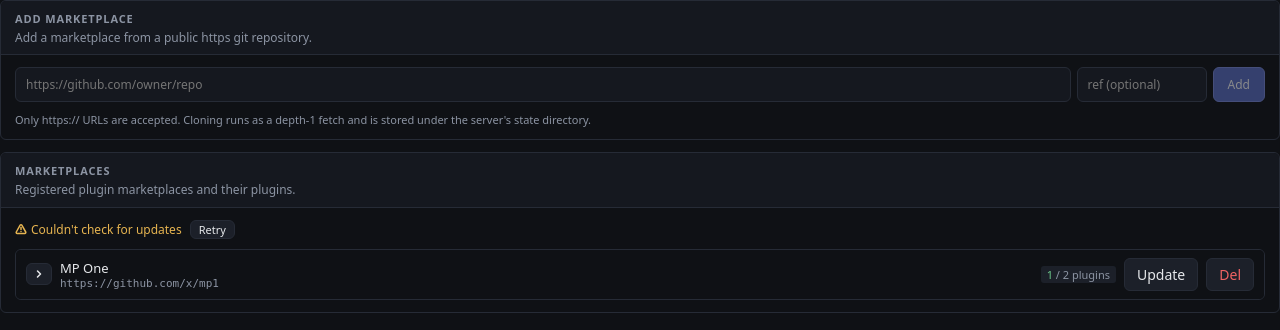
MarketplaceTab update-check states › a successful per-card refresh clears a stale whole-check error
The width and height of the screenshot is (1280, 330).
Click the button "Update": (1161, 274) left=1124, top=258, right=1198, bottom=291
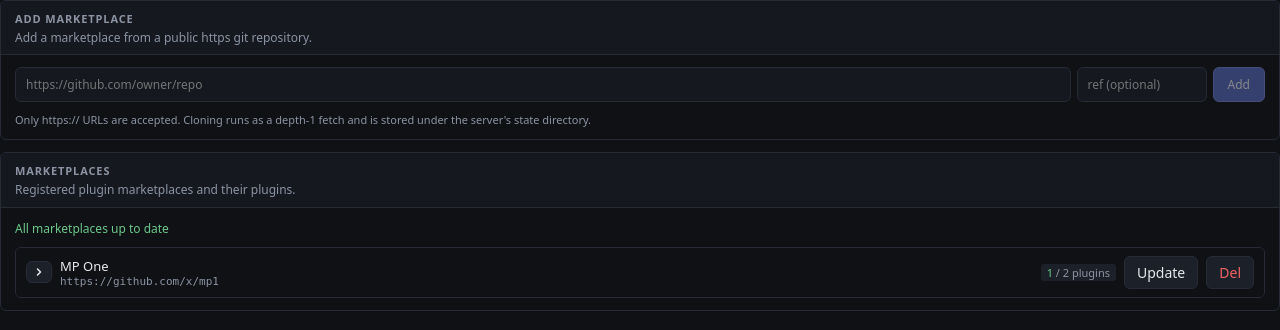
Expected: the text "Couldn't check for updates" is gone
Expected: the text "All marketplaces up to date" is shown, left=15, top=220, right=169, bottom=237
